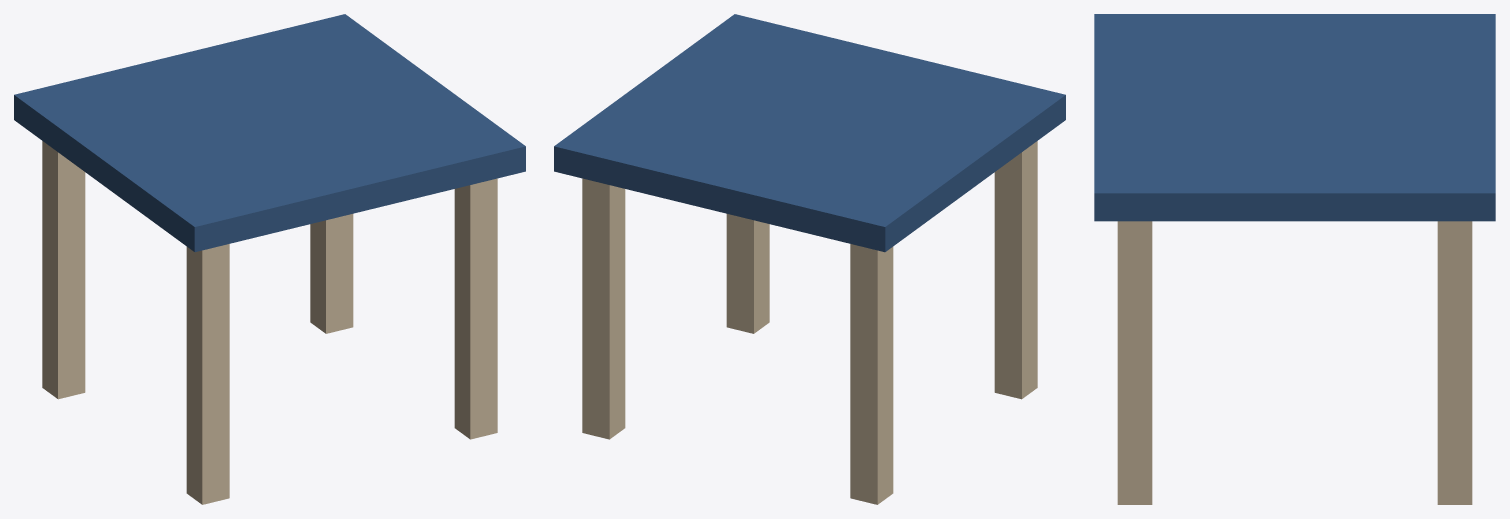
File: pi5d2-side-table.glb
3 renders of one model, left to right at view 1: azimuth 30°, elevation 25°; view 2: azimuth 150°, elevation 25°; view 3: azimuth 270°, elevation 25°, orthographic. The views are drawn at different scales.
Visible parts, largest first — view 1: top, leg0, leg1, leg2, leg3; view 2: top, leg2, leg3, leg0, leg1; view 3: top, leg1, leg3.
Boxes of the visible parts, <box> form: top: <box>14,14,525,252</box>; leg0: <box>186,244,229,504</box>; leg1: <box>454,178,497,439</box>; leg2: <box>42,141,85,399</box>; leg3: <box>310,214,353,333</box>; top: <box>554,14,1065,252</box>; leg2: <box>850,244,893,504</box>; leg3: <box>582,178,625,439</box>; leg0: <box>994,141,1037,399</box>; leg1: <box>726,214,769,333</box>; top: <box>1094,14,1495,221</box>; leg1: <box>1117,221,1152,504</box>; leg3: <box>1437,221,1472,504</box>.
Bounding box in the file's own units: 0.55 × 0.46 × 0.52.
